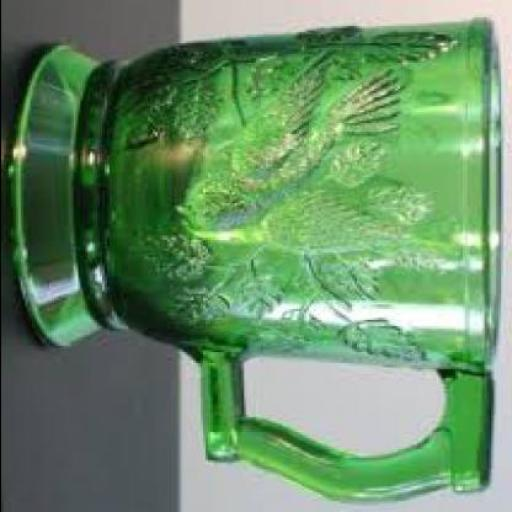glass: (17, 16, 502, 502)
